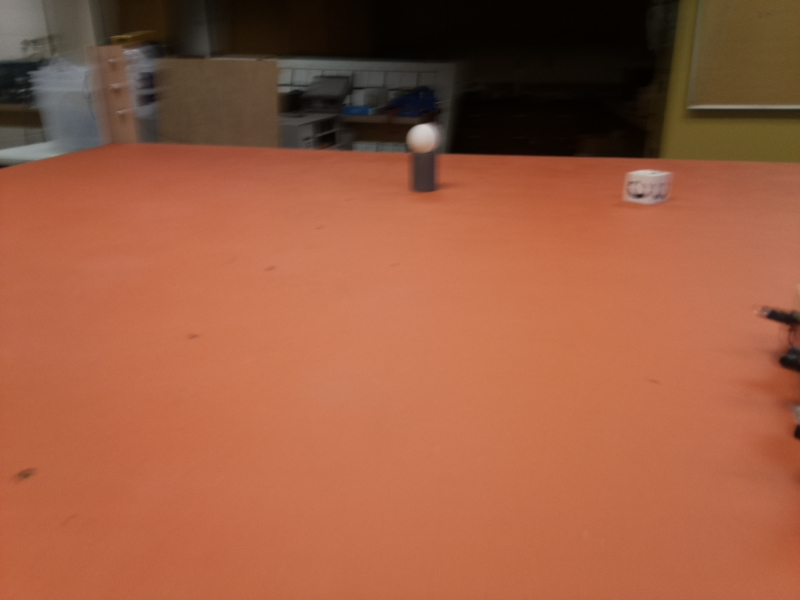blockC: (624, 170, 678, 207)
corner: (98, 45, 130, 153)
obstacle: (403, 123, 447, 193)
